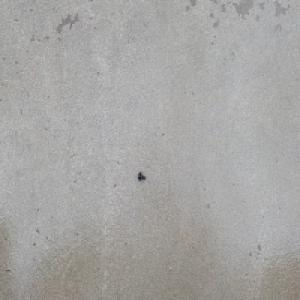BoltWasher: (137, 171, 145, 181)
